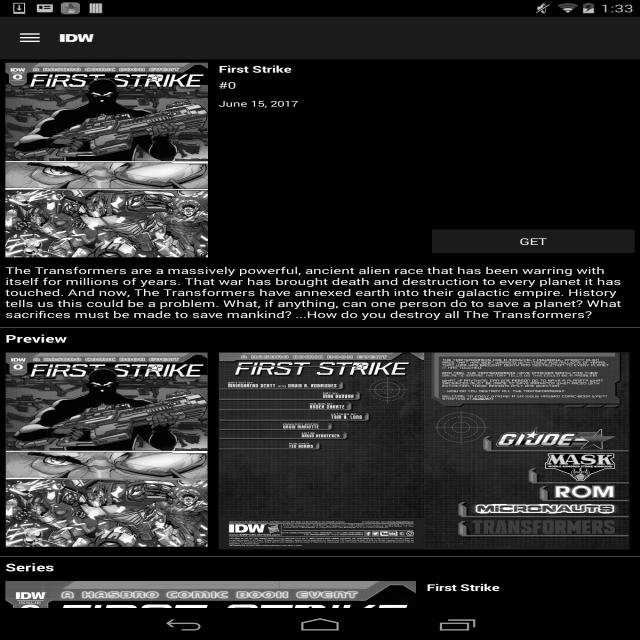Button: (432, 230, 635, 253)
ImageButton: (0, 30, 60, 46)
ImageView: (0, 59, 640, 608), (219, 353, 629, 549), (5, 63, 208, 257), (6, 352, 207, 546), (5, 581, 416, 640), (60, 27, 94, 49)
TextView: (5, 264, 635, 321), (5, 331, 635, 346), (5, 560, 635, 574), (218, 63, 634, 75), (218, 79, 634, 91), (218, 98, 634, 109), (426, 581, 634, 594), (426, 597, 634, 610)
